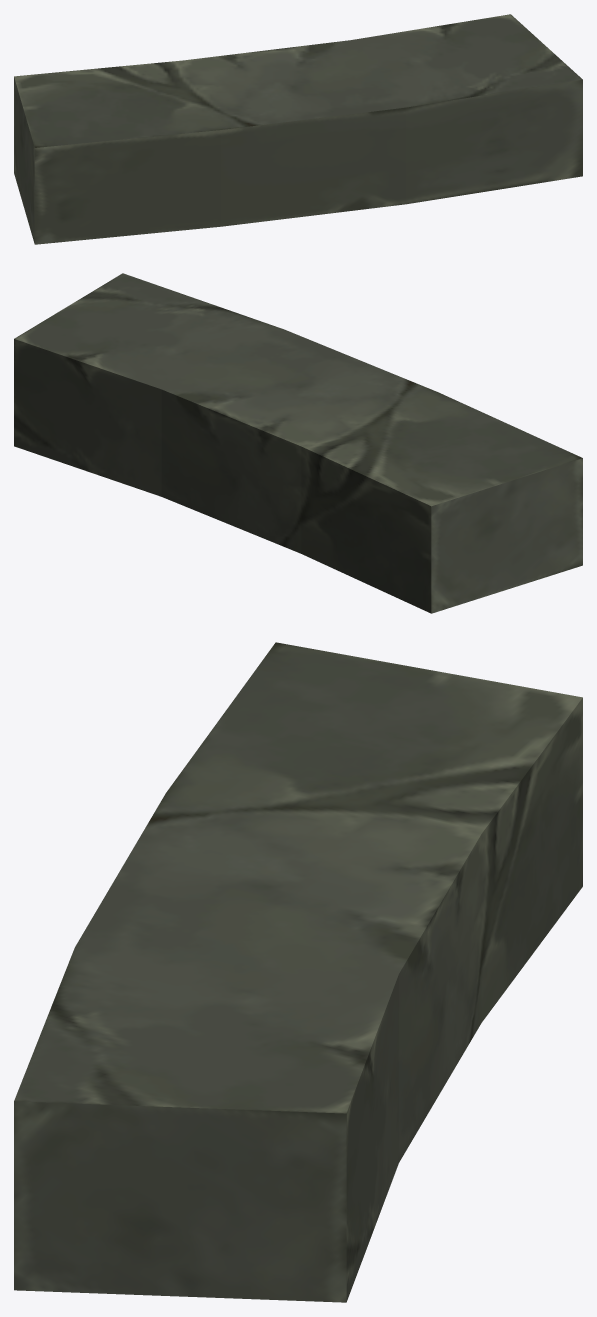
Rendered from yw_newshanlin_pingtaizhuan_003.FBX.
3 views of the same model, one above another, from view 1: azimuth 30°, elevation 25°; view 2: azimuth 150°, elevation 25°; view 3: azimuth 270°, elevation 25° (orthographic). The views are drawn at different scales.
Parts seen in each view (by area): view 1: yw_newshanlin_pingtaizhuan_003; view 2: yw_newshanlin_pingtaizhuan_003; view 3: yw_newshanlin_pingtaizhuan_003.
Boxes of the visible parts, bbox=[...] form: yw_newshanlin_pingtaizhuan_003: bbox=[14, 14, 582, 244]; yw_newshanlin_pingtaizhuan_003: bbox=[14, 273, 582, 613]; yw_newshanlin_pingtaizhuan_003: bbox=[14, 642, 582, 1302].
Bounding box in the file's own units: 29.04 × 14.82 × 5.43.
